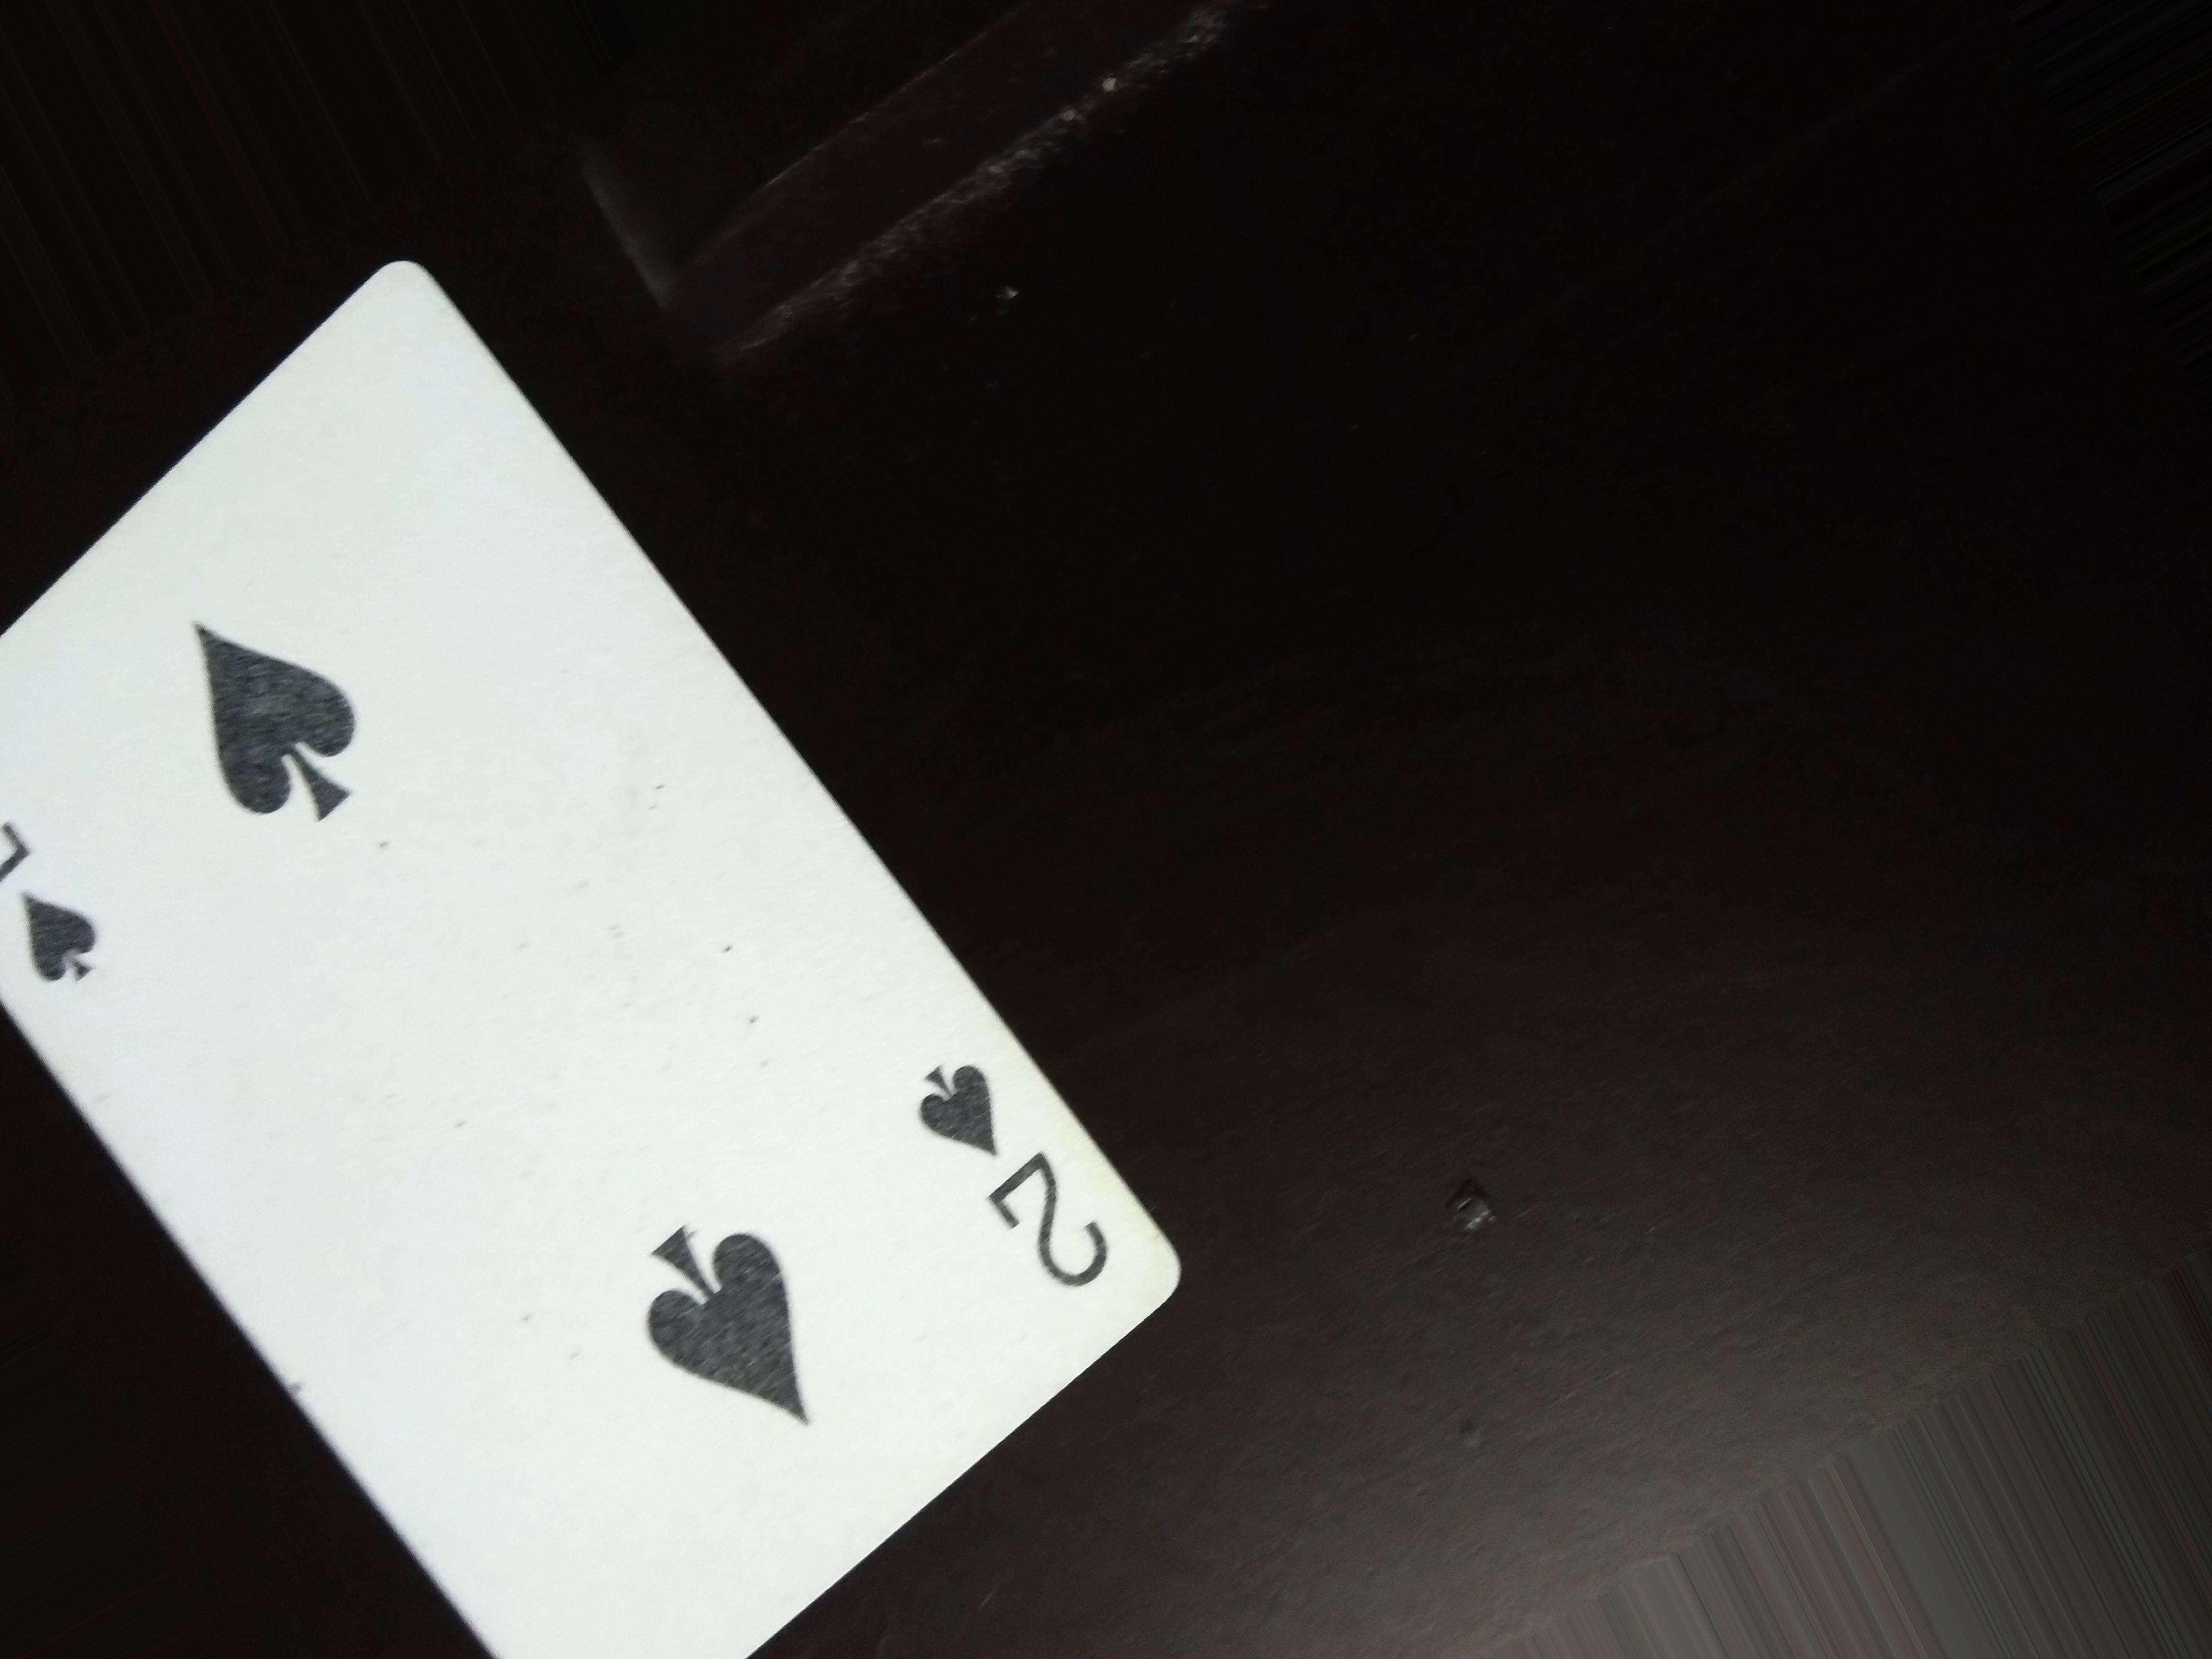2S: (881, 1046, 1132, 1305)
